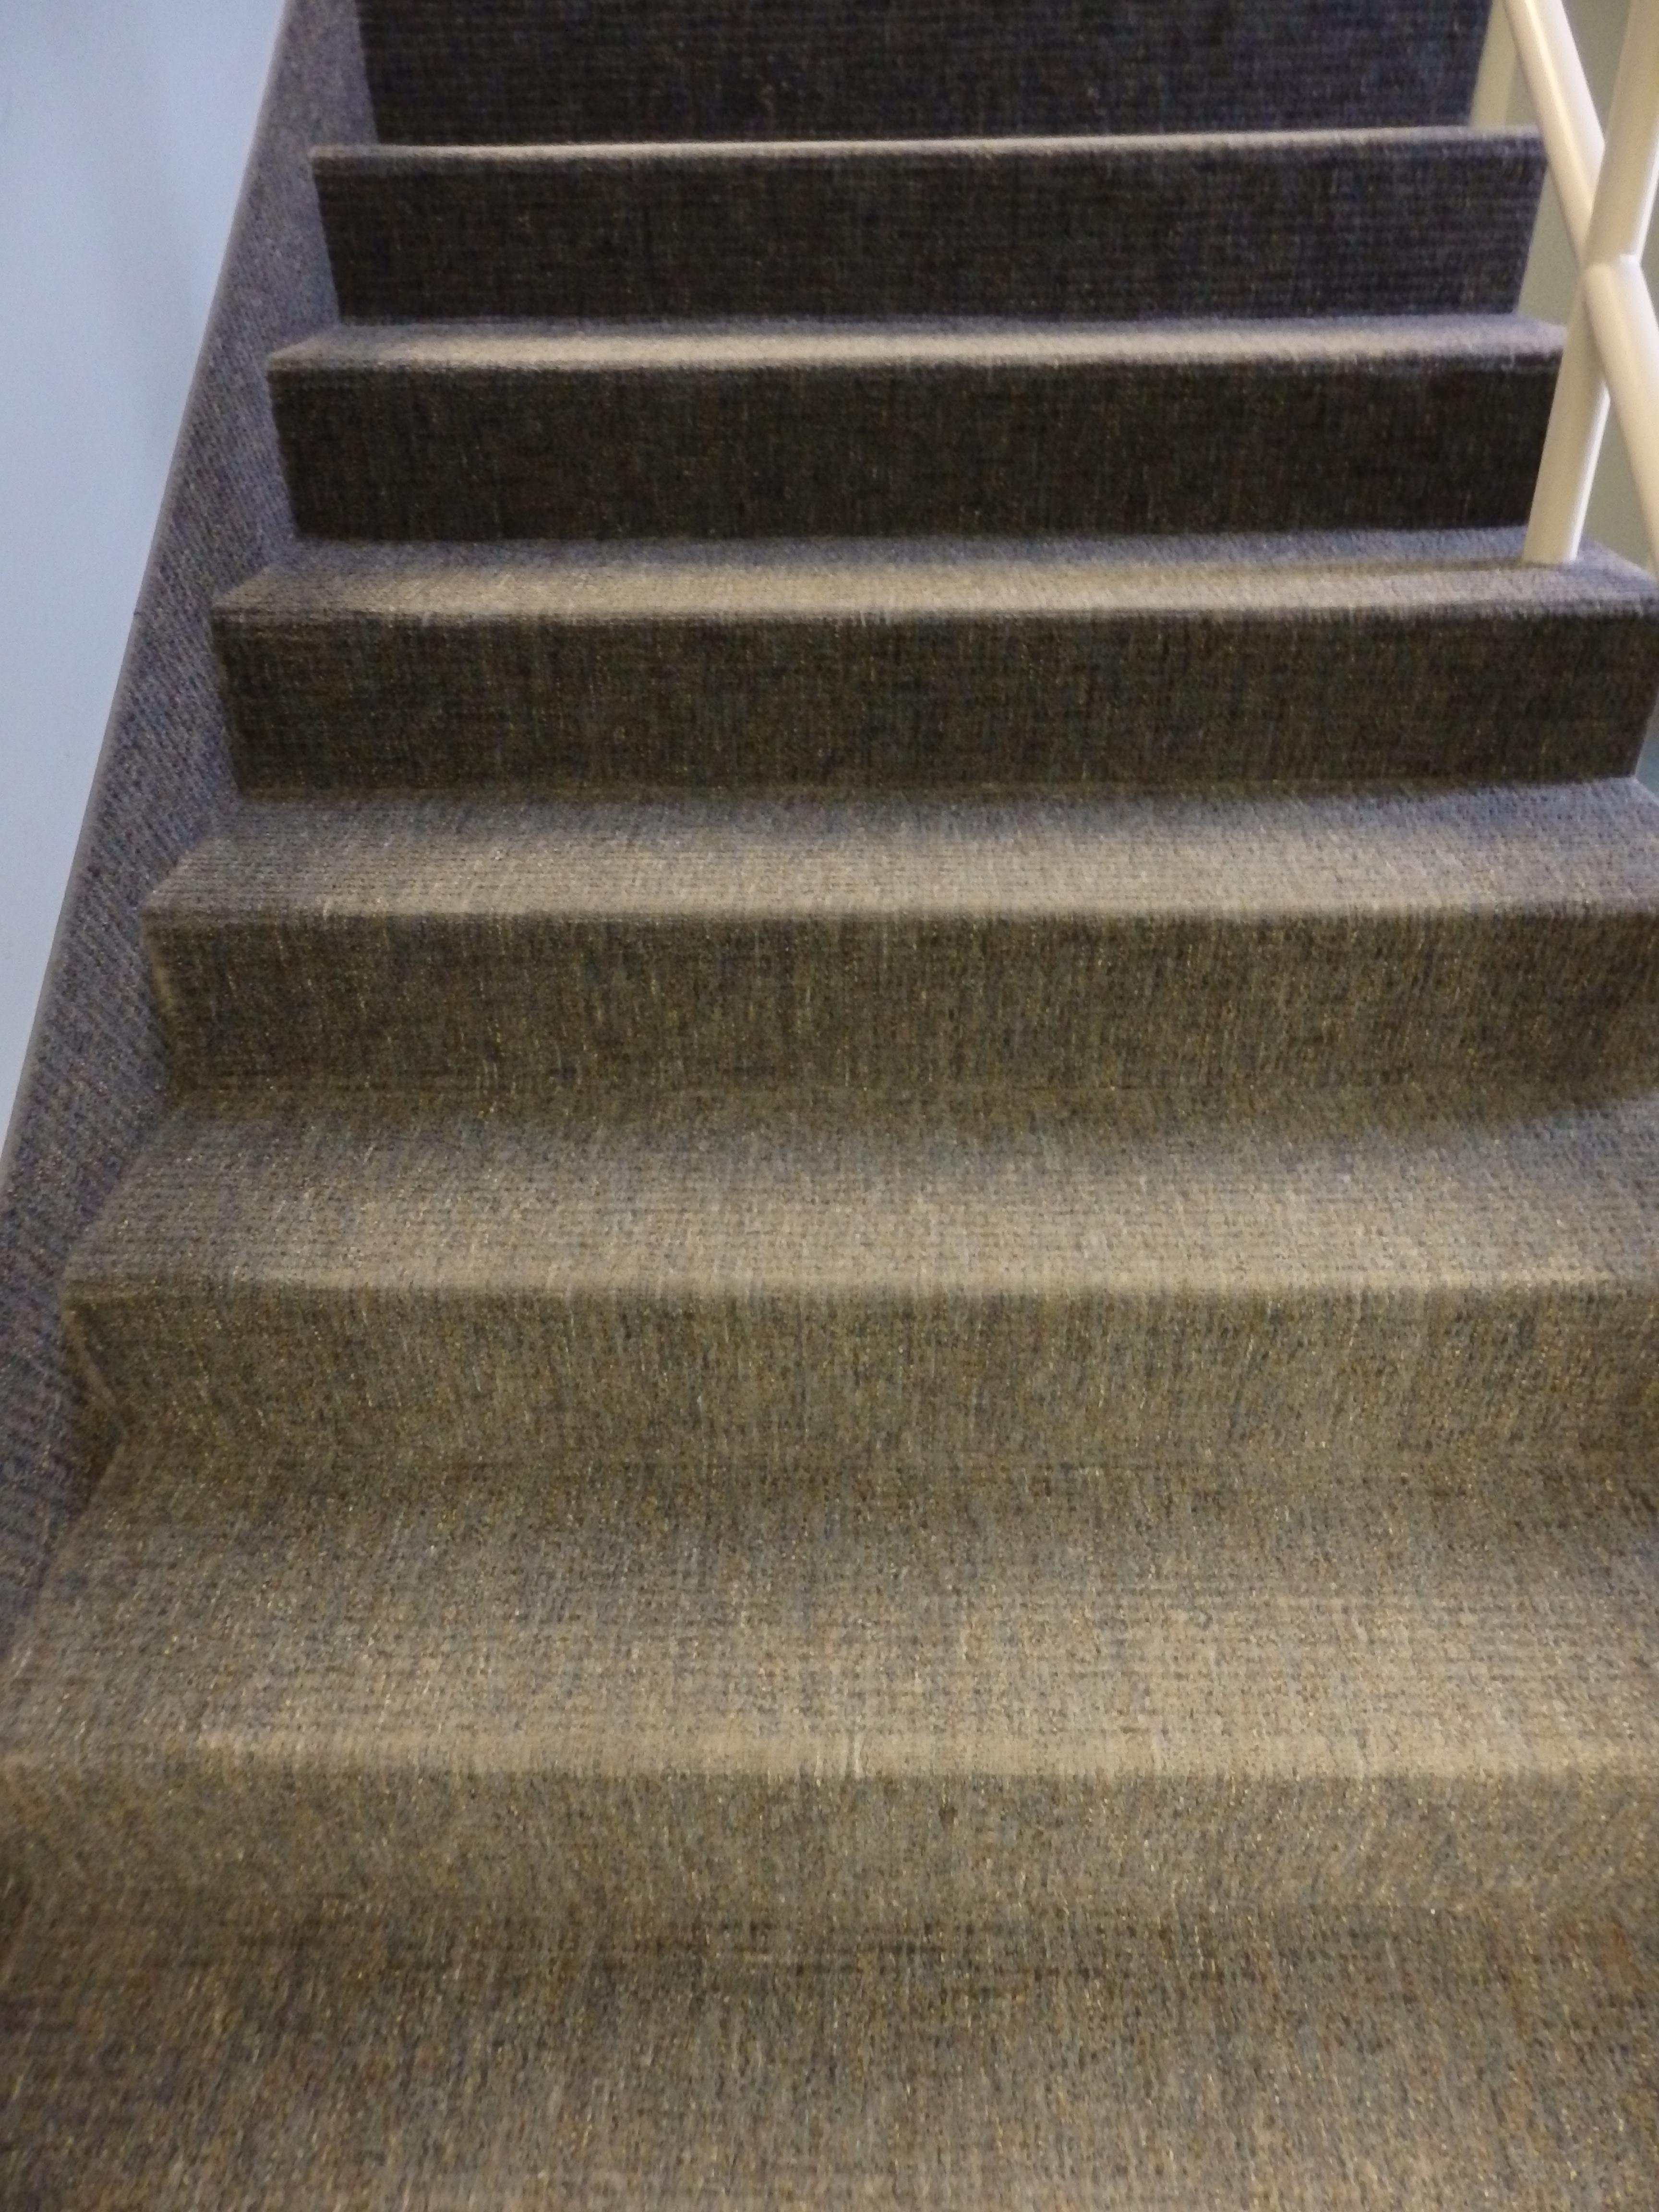stairs_up: (173, 64, 1610, 1885)
